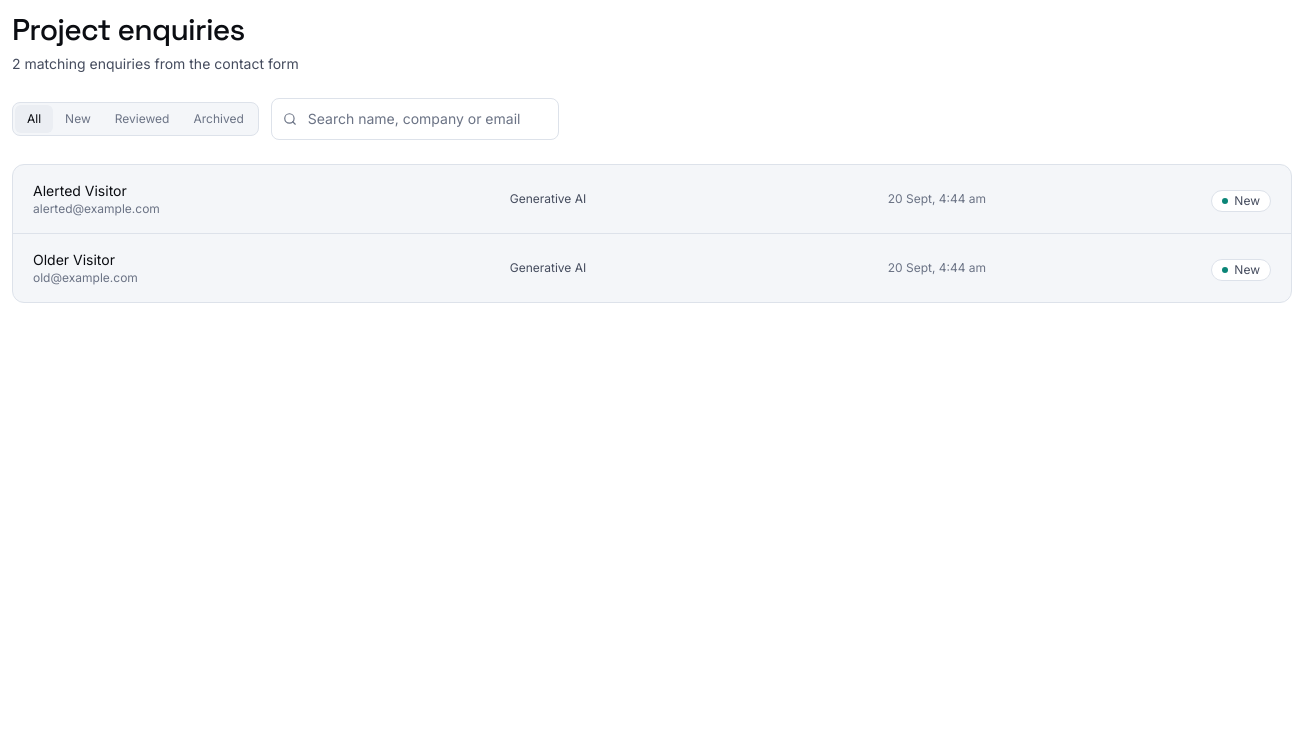
admin enquiries and demo requests › shows what happened to each enquiry's team alerts, and nothing for older enquiries without a record
The width and height of the screenshot is (1304, 732).
Click the button "Alerted Visitor": (80, 190) [13,165,1291,233]
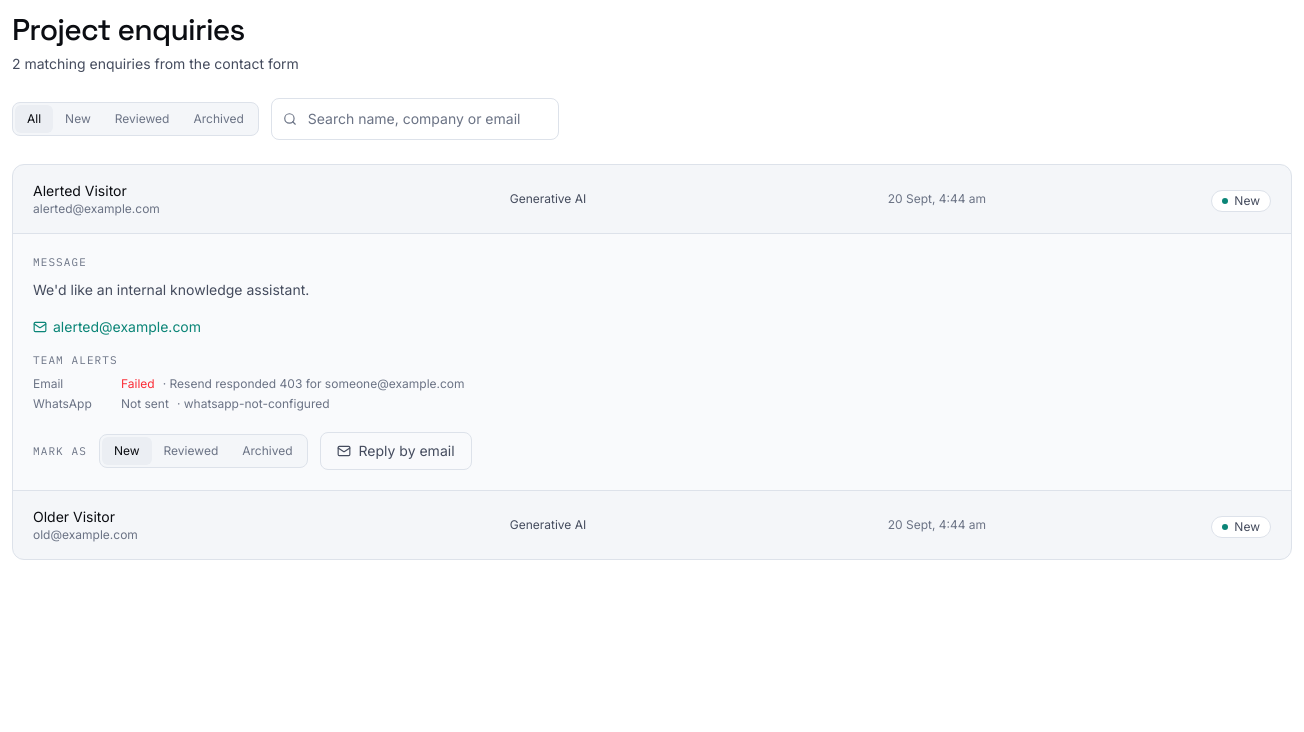
Expected: the text "Team alerts" is shown, [33,353,118,367]
Expected: the text "Failed" is shown, [121,376,155,392]
Expected: the text "· Resend responded 403 for someone@example.com" is shown, [163,376,465,392]
// Only one enquiry is open at a time, so opening the older one closes the first.
Click the button "Older Visitor": (74, 516) [13,491,1291,559]
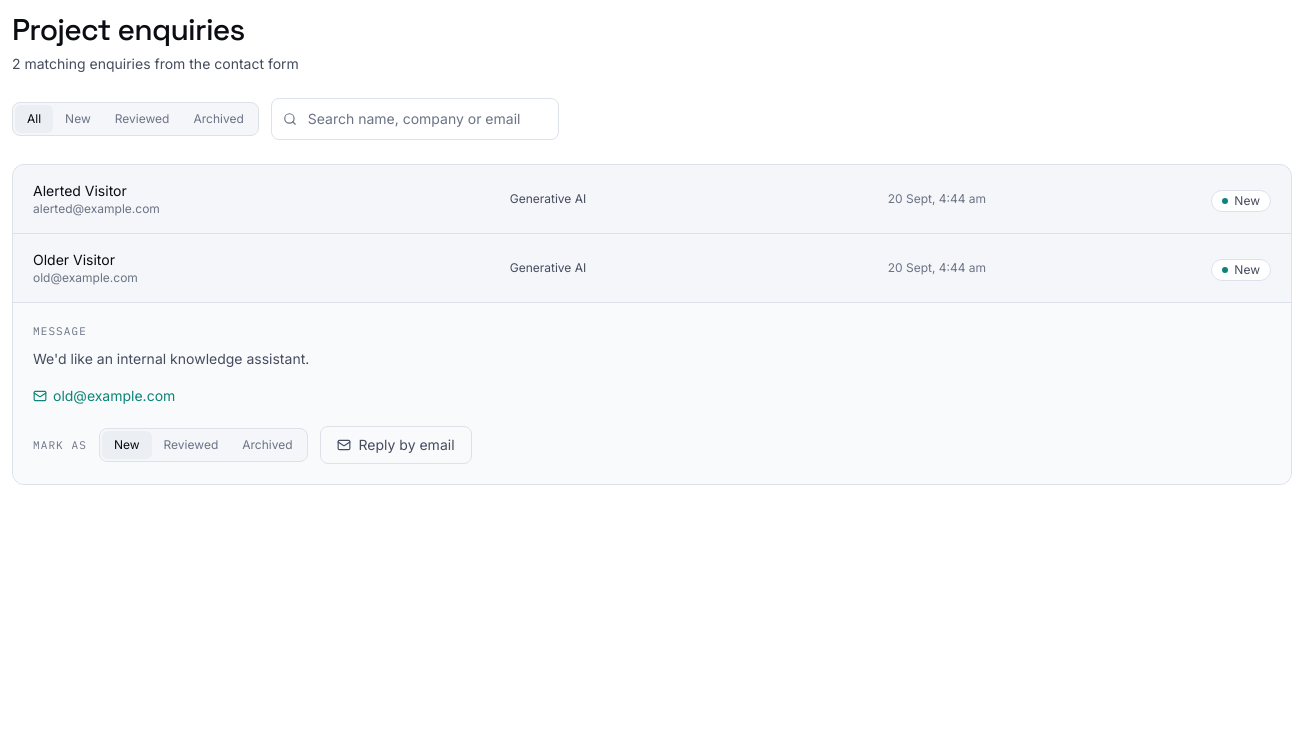
Expected: the text "We'd like an internal knowledge assistant." is shown, [33,350,309,366]
Expected: the text "Team alerts" is gone
